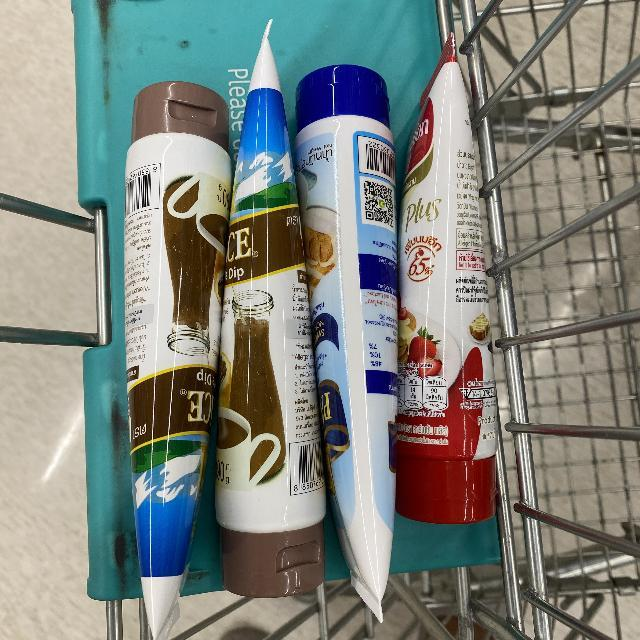Squeeze Tube: (113, 24, 513, 630)
